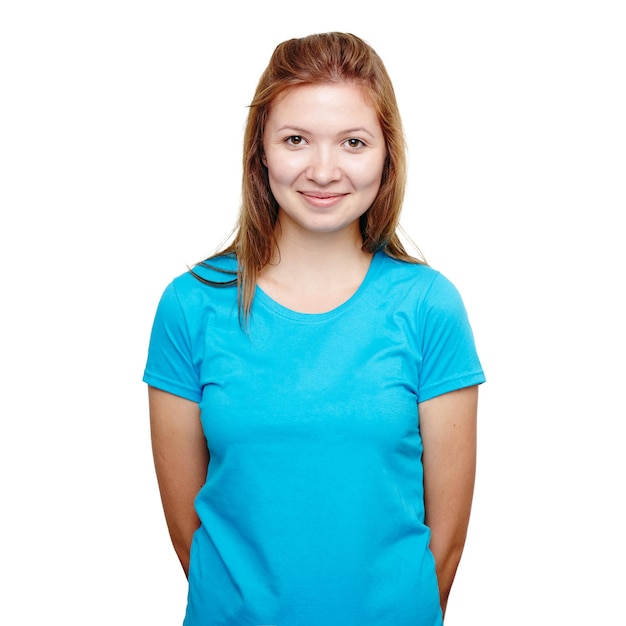teen: (229, 19, 408, 246)
